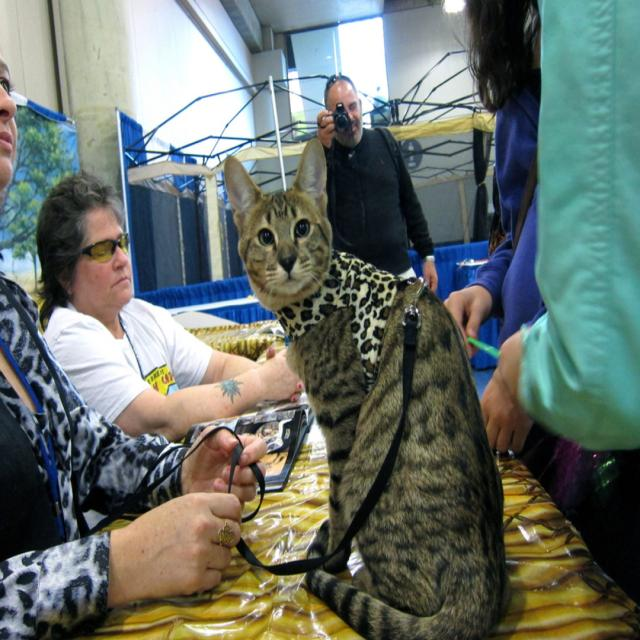Savannah: (221, 132, 512, 640)
